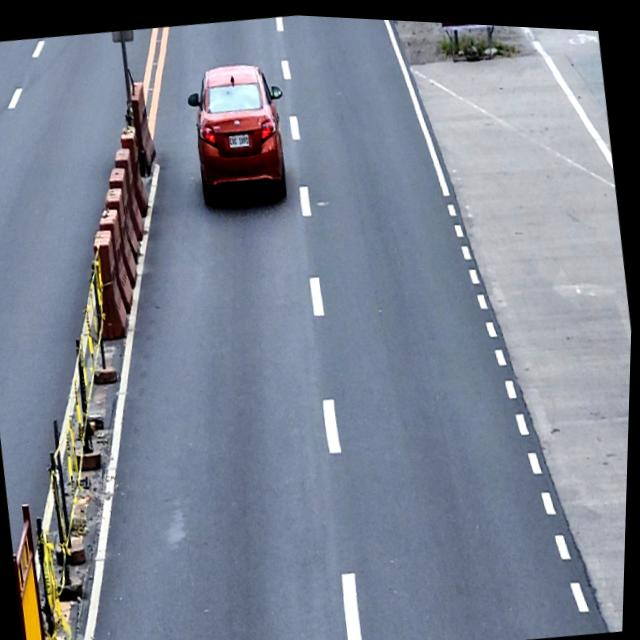Car: (181, 54, 298, 206)
License-Plate: (227, 127, 252, 147)
